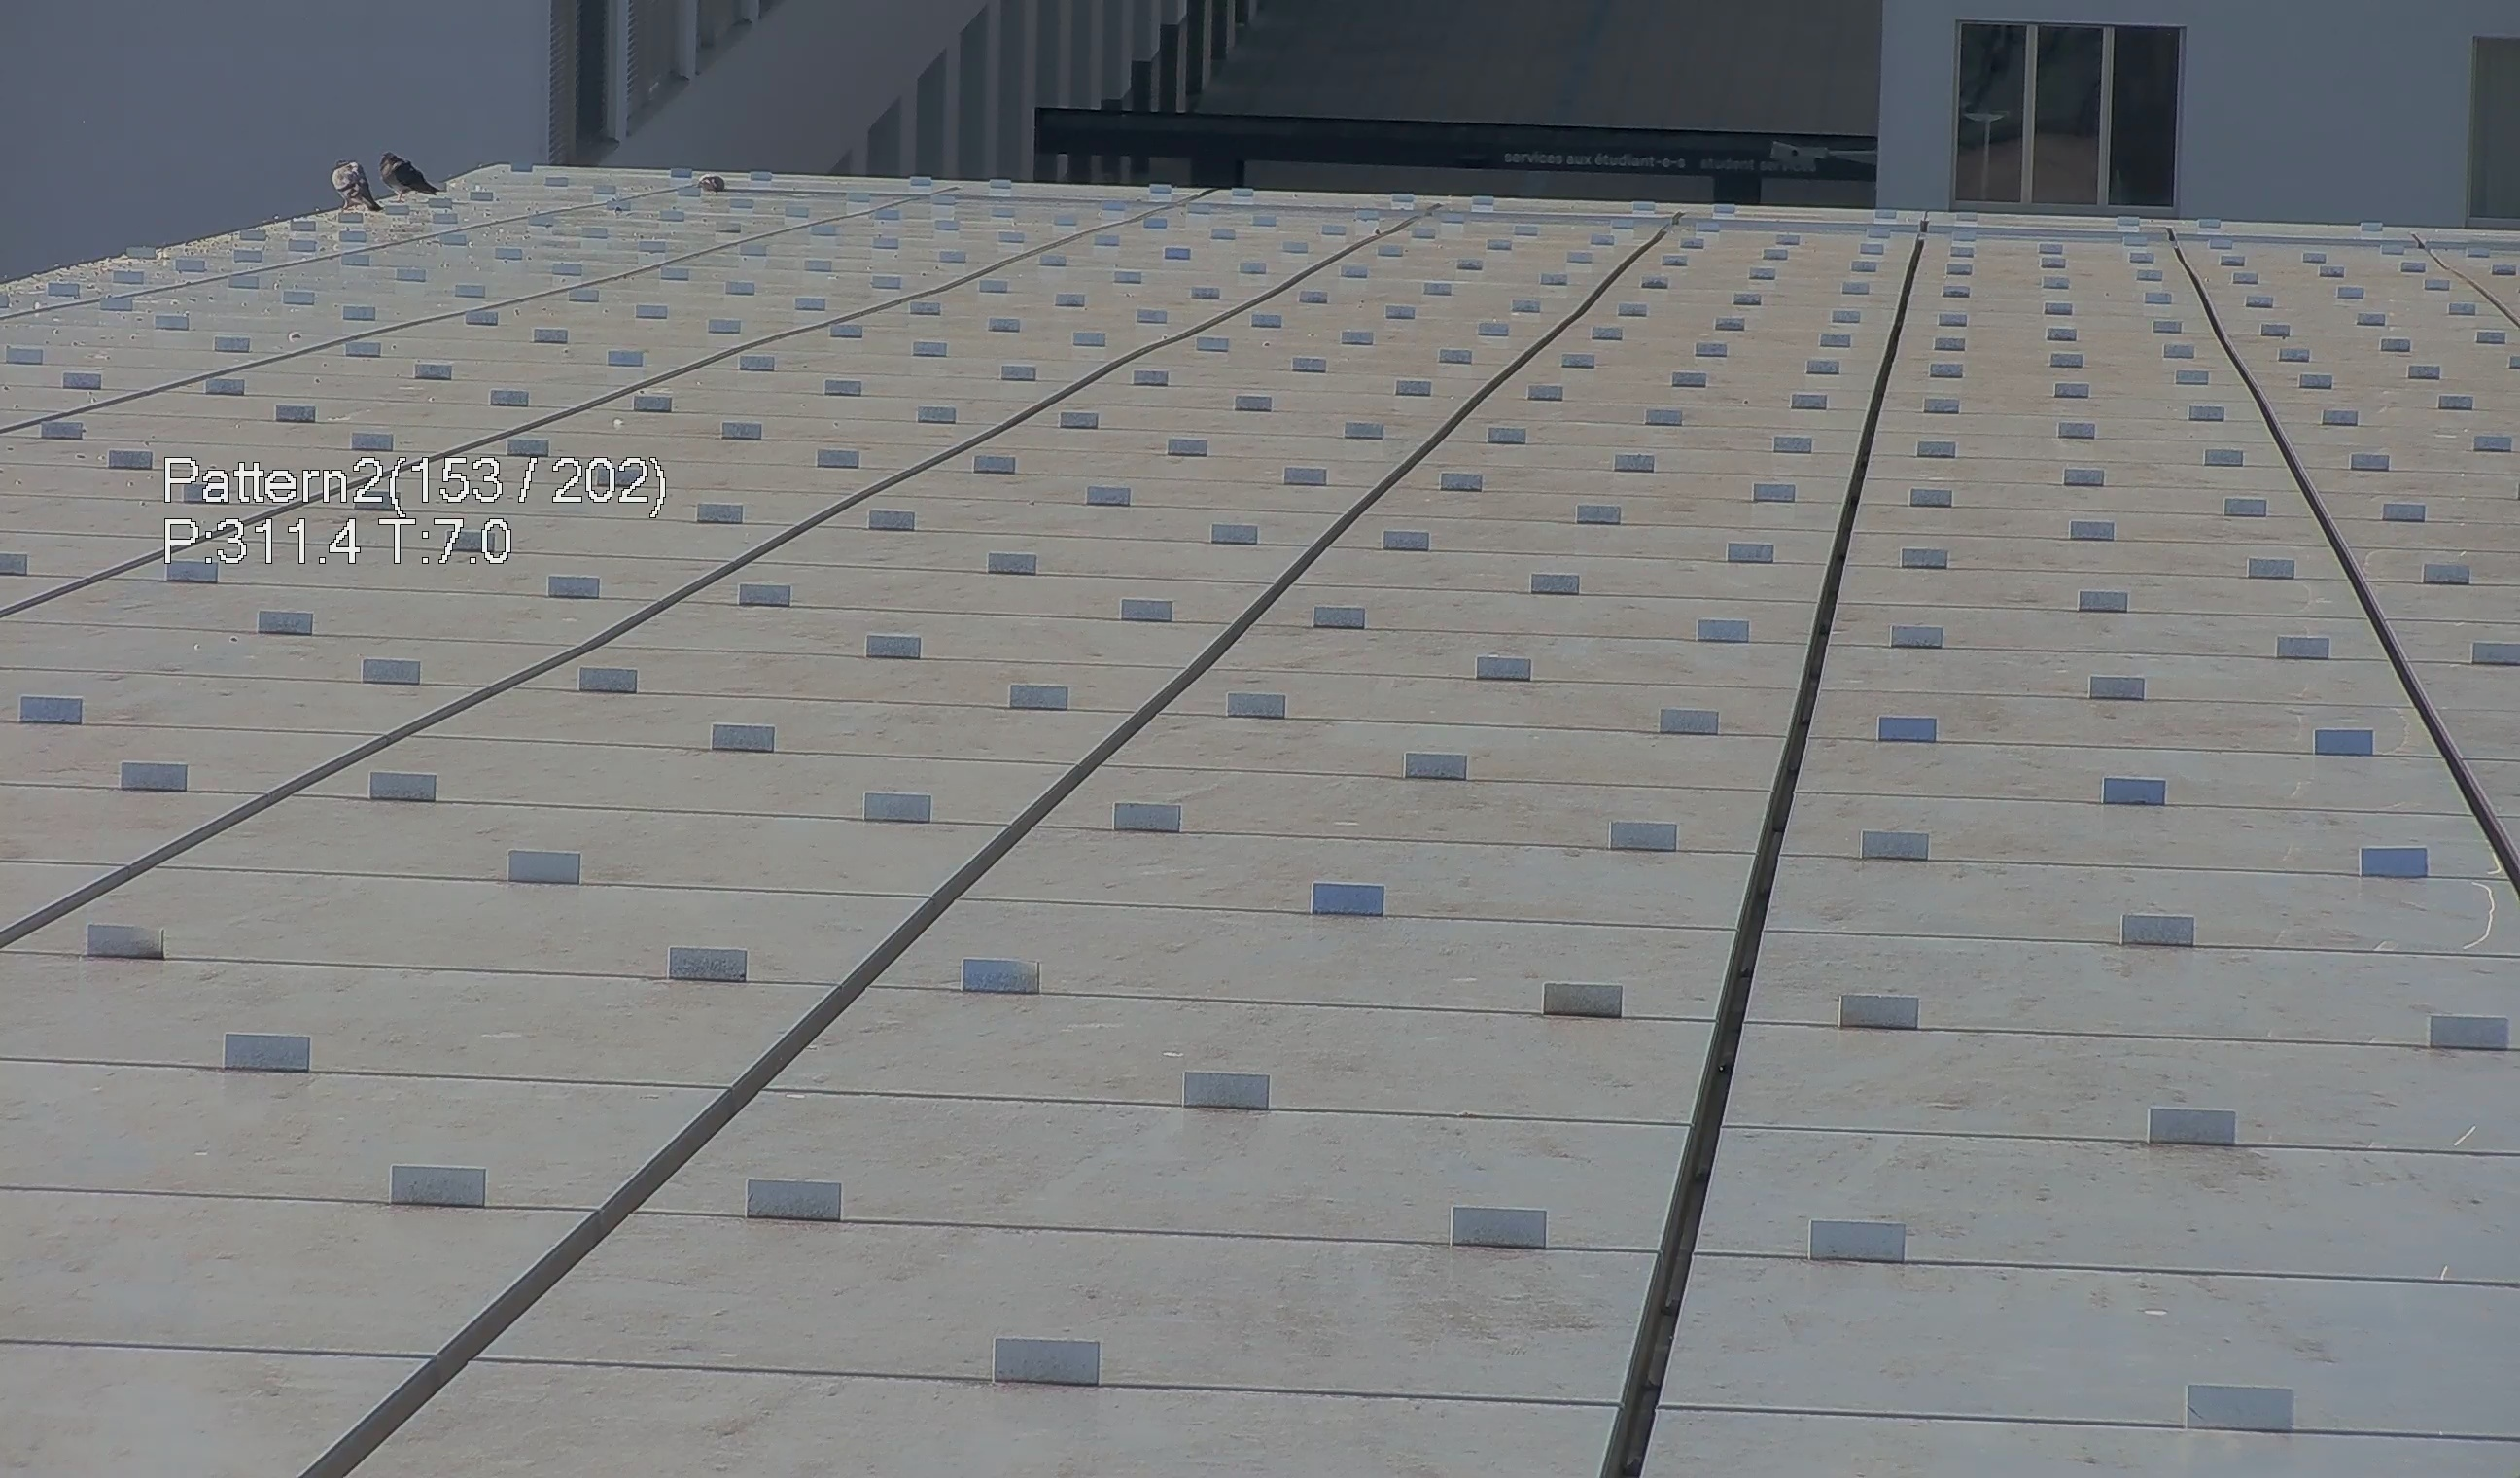Pigeon: (371, 137, 448, 201), (324, 151, 382, 216), (689, 167, 730, 197)
